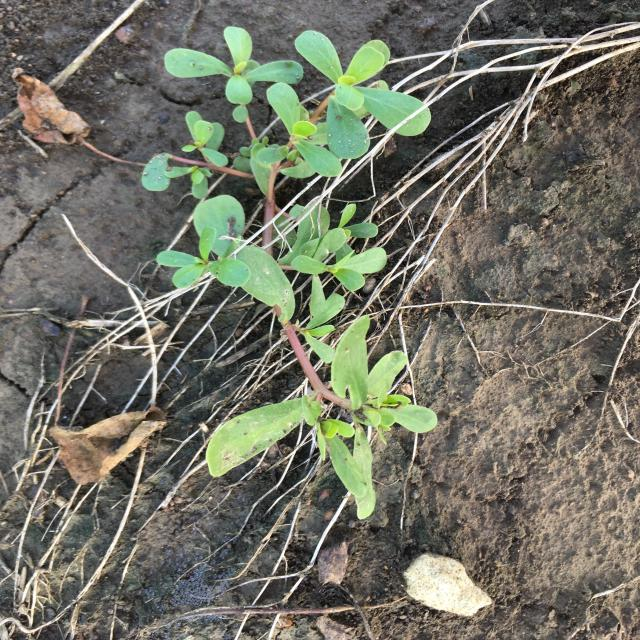Purslane: (141, 26, 438, 520)
